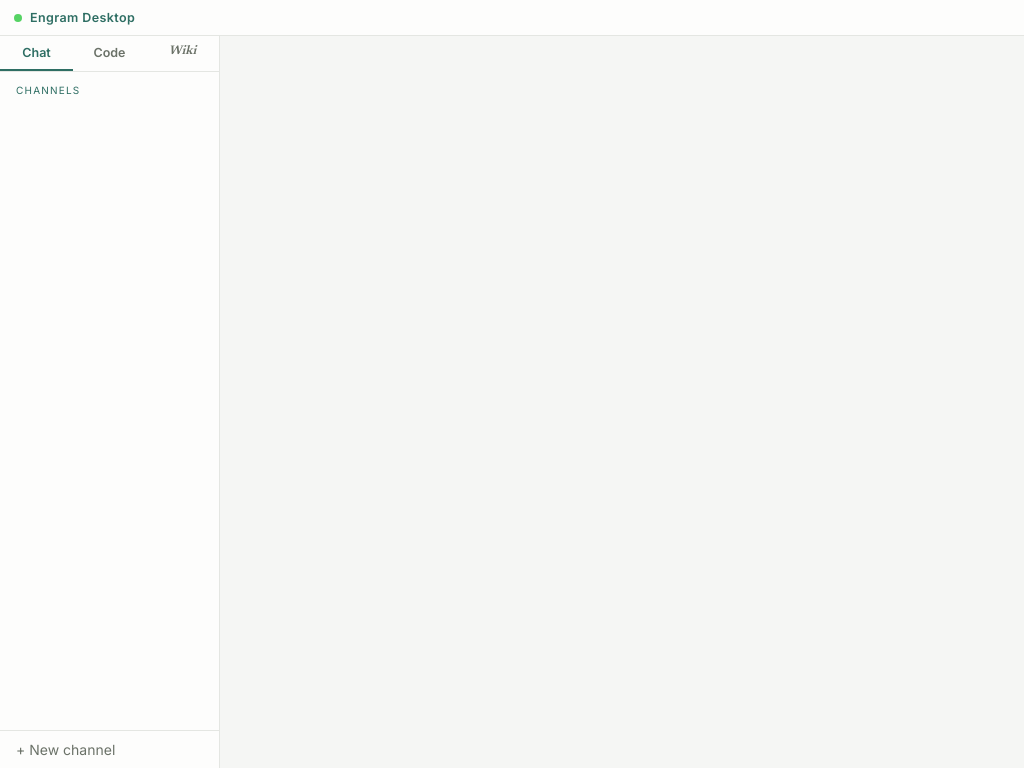
Test: B3. 노력 배지(코드 채널 전용) › code 채널엔 있고, 미설정이면 "높음"으로 보인다(백엔드 기본 high)
Click the text "Code" at point(110, 52), box [94, 45, 126, 60]
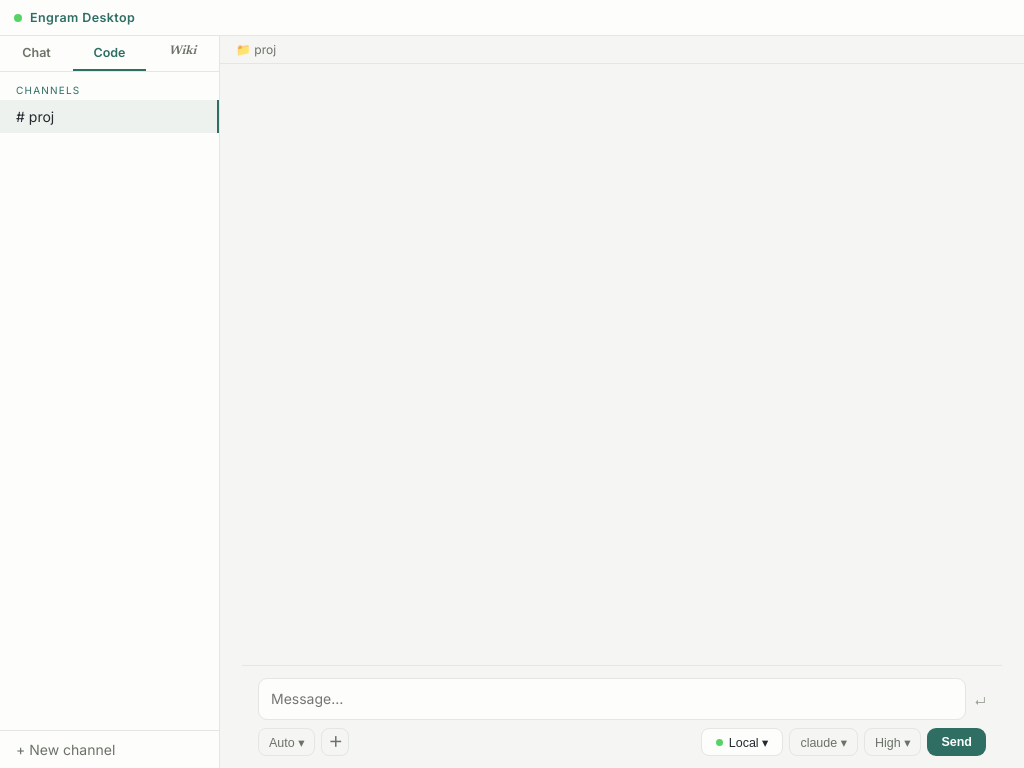
Now the text titled "C:/repo/proj" is shown, box [220, 36, 1023, 64]
Now the button with class "effortBadge" shows "High", box [864, 728, 922, 756]
